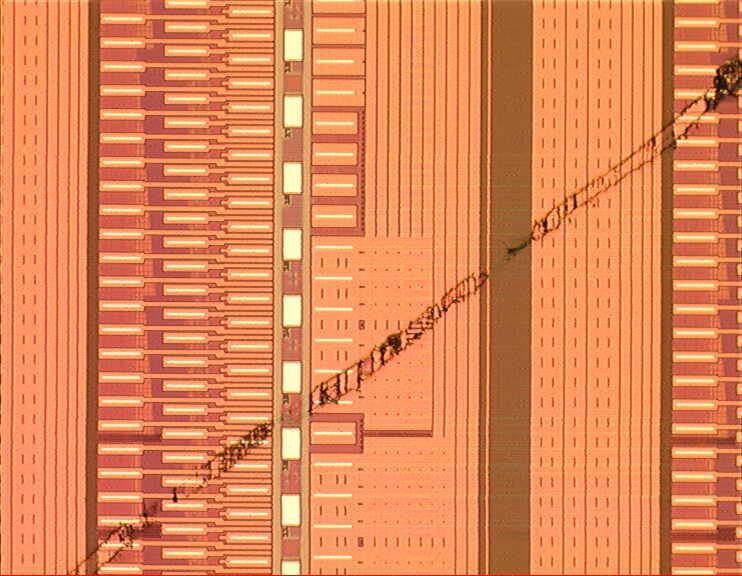SCRATCH: (66, 53, 742, 576)
